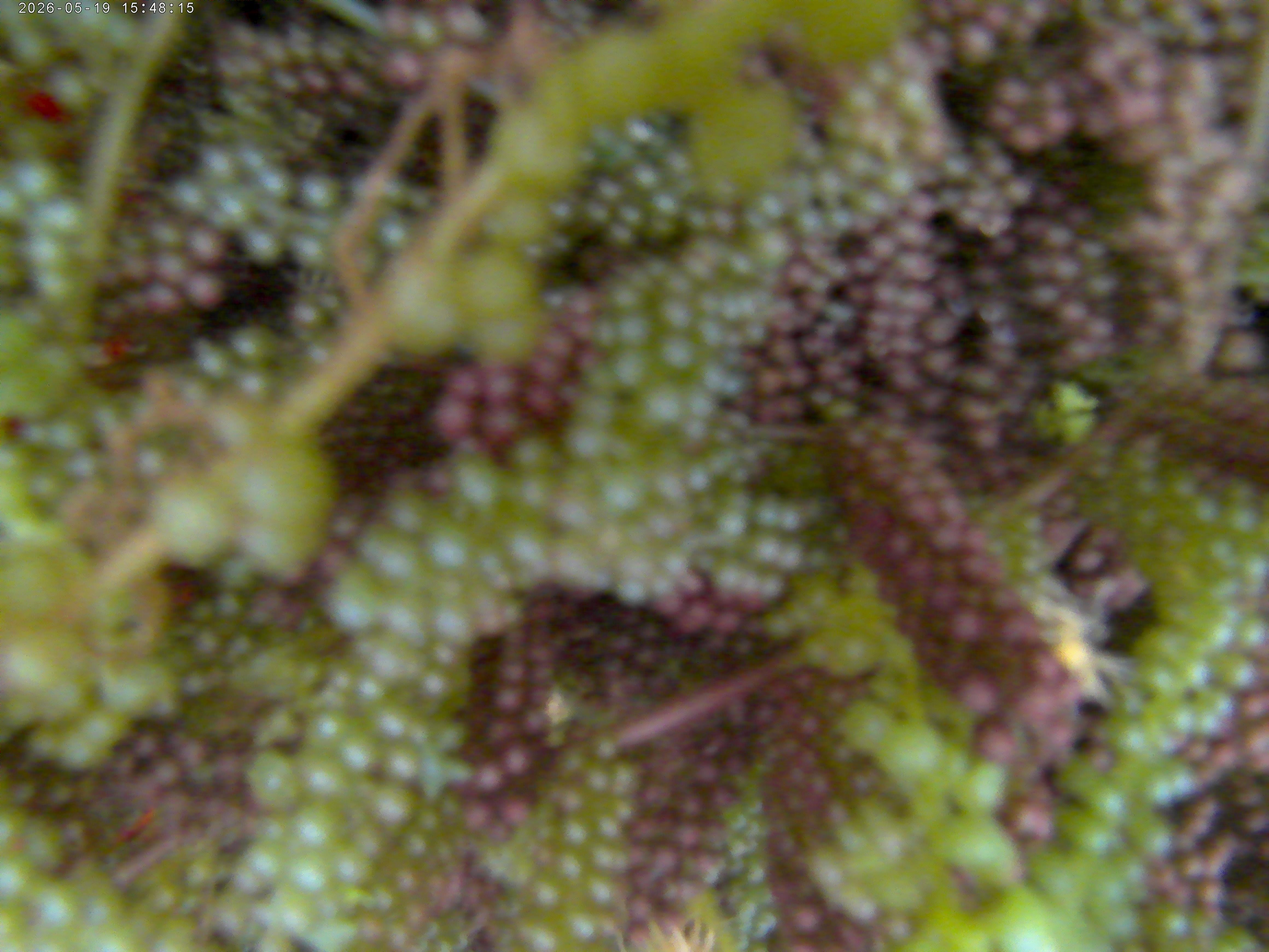Darkening: (386, 49, 426, 87), (1020, 684, 1060, 720), (959, 673, 996, 711), (961, 368, 1004, 400), (977, 724, 1013, 761), (953, 391, 994, 423), (1027, 656, 1065, 690), (895, 251, 936, 282), (920, 344, 957, 376), (1003, 615, 1039, 647), (189, 271, 222, 305), (187, 230, 220, 264), (156, 251, 189, 284), (1009, 119, 1041, 151), (889, 363, 923, 393), (1245, 724, 1269, 765), (924, 314, 955, 345), (677, 602, 710, 631), (894, 223, 930, 249), (503, 746, 533, 777), (886, 532, 916, 562), (1087, 272, 1118, 300), (900, 286, 932, 313), (791, 908, 824, 934), (476, 765, 505, 794), (1005, 178, 1034, 207), (493, 684, 523, 712), (904, 559, 934, 587), (149, 285, 179, 313), (916, 392, 949, 417), (302, 69, 332, 96), (1065, 337, 1096, 363), (1211, 744, 1243, 769), (271, 69, 301, 95), (942, 154, 970, 181), (1053, 256, 1081, 283), (1044, 111, 1073, 137), (1039, 81, 1068, 107), (999, 81, 1028, 107), (933, 527, 962, 553), (1021, 217, 1052, 241), (1032, 283, 1060, 309), (921, 31, 950, 56), (934, 275, 964, 299), (817, 359, 848, 382), (711, 208, 738, 234), (1181, 856, 1208, 882), (769, 342, 796, 368), (909, 195, 936, 221), (1060, 300, 1088, 325), (988, 348, 1017, 372), (872, 459, 898, 485), (982, 6, 1008, 32), (453, 371, 478, 398), (1047, 225, 1074, 250), (156, 762, 183, 787), (987, 154, 1014, 179), (179, 737, 206, 762), (215, 754, 242, 779), (190, 748, 217, 773), (340, 75, 367, 100), (893, 332, 921, 356), (496, 802, 525, 825), (525, 390, 551, 415), (1243, 811, 1269, 836), (873, 282, 899, 307), (653, 845, 677, 872), (924, 0, 951, 24), (1072, 205, 1095, 233), (493, 413, 519, 437), (972, 423, 996, 449), (787, 262, 811, 288), (1089, 316, 1115, 340), (1197, 883, 1223, 907), (445, 409, 468, 436), (930, 587, 957, 610), (1079, 239, 1106, 262), (522, 711, 546, 736), (744, 323, 769, 347), (957, 207, 982, 231), (134, 735, 159, 759), (869, 306, 894, 330), (1043, 190, 1067, 215), (945, 494, 968, 520), (990, 106, 1015, 129), (836, 376, 861, 399), (487, 375, 513, 397), (489, 722, 511, 748), (503, 662, 529, 684), (536, 358, 563, 379), (510, 744, 530, 772), (953, 0, 981, 20), (718, 611, 742, 634), (958, 614, 980, 639), (711, 787, 733, 811), (912, 496, 934, 520), (679, 827, 701, 850), (788, 366, 811, 388), (854, 256, 877, 278), (249, 605, 272, 627), (102, 301, 125, 323), (846, 428, 868, 450), (1188, 741, 1210, 763), (758, 369, 781, 390), (977, 265, 1000, 286), (549, 331, 571, 352), (996, 236, 1018, 257), (1159, 869, 1180, 891), (963, 550, 983, 573), (1195, 799, 1218, 819), (1057, 493, 1078, 514), (480, 768, 500, 790), (728, 411, 750, 431), (535, 641, 554, 664), (679, 798, 700, 818), (811, 387, 832, 407), (701, 762, 720, 782), (734, 638, 754, 657), (794, 673, 814, 692), (779, 835, 798, 855), (1188, 818, 1209, 836), (850, 285, 869, 304), (801, 714, 819, 734), (804, 295, 824, 312), (1172, 890, 1194, 905), (1178, 830, 1195, 849), (801, 749, 818, 767), (782, 738, 800, 755), (813, 774, 826, 795)
Harvestable: (881, 721, 940, 782), (322, 568, 374, 630), (944, 814, 1002, 869), (358, 532, 417, 586), (248, 753, 296, 813), (456, 463, 508, 514), (296, 803, 350, 852), (601, 467, 651, 518), (427, 519, 476, 570), (1037, 852, 1085, 902), (961, 761, 1002, 819), (499, 519, 550, 565), (24, 204, 84, 243), (3, 159, 56, 202), (37, 882, 83, 931), (300, 751, 345, 799), (9, 27, 54, 71), (390, 492, 436, 535), (268, 894, 320, 931), (248, 841, 291, 885), (567, 424, 612, 466), (0, 850, 35, 900), (618, 348, 657, 391), (54, 71, 92, 114), (295, 856, 338, 893), (657, 332, 696, 372), (1075, 819, 1116, 857), (1087, 780, 1128, 818), (376, 788, 413, 830), (641, 384, 684, 420), (1143, 659, 1181, 699), (46, 414, 84, 452), (25, 237, 67, 271), (1104, 906, 1142, 943), (374, 701, 411, 739), (582, 395, 625, 427), (1138, 820, 1174, 858), (834, 818, 870, 856), (311, 707, 348, 743), (231, 327, 267, 363), (384, 744, 419, 781), (339, 736, 377, 770), (1221, 654, 1256, 690), (301, 175, 337, 210), (656, 296, 692, 331), (564, 908, 600, 942), (36, 269, 75, 300), (434, 718, 469, 752), (1061, 410, 1094, 446), (617, 314, 651, 348), (584, 871, 617, 906), (219, 555, 252, 590), (1165, 700, 1198, 735), (1225, 504, 1259, 537), (518, 442, 555, 472), (1055, 381, 1087, 415), (555, 848, 587, 881), (197, 347, 229, 380), (218, 195, 251, 227), (1189, 494, 1221, 526), (533, 877, 565, 909), (652, 470, 684, 502), (329, 915, 361, 947), (1117, 852, 1148, 885), (176, 181, 207, 214), (1180, 657, 1210, 691), (1160, 907, 1191, 939), (793, 206, 825, 237), (1204, 533, 1236, 564), (411, 17, 443, 48), (1146, 776, 1177, 808), (1238, 616, 1268, 649), (249, 231, 280, 262), (562, 815, 592, 847), (885, 166, 915, 197), (0, 190, 26, 225), (1169, 472, 1199, 502), (296, 236, 326, 266), (446, 757, 475, 788), (356, 674, 385, 704), (380, 220, 409, 250), (1118, 727, 1147, 757), (216, 591, 245, 620), (1241, 552, 1269, 582), (69, 452, 99, 480), (421, 670, 451, 698), (765, 613, 794, 641), (328, 664, 357, 692), (1207, 687, 1234, 717), (697, 319, 725, 347), (650, 192, 679, 219), (1206, 622, 1235, 649), (337, 855, 370, 878), (404, 831, 431, 859), (590, 842, 617, 870), (416, 807, 443, 834), (632, 165, 659, 192), (719, 510, 746, 537), (594, 813, 621, 840), (618, 204, 646, 230), (194, 630, 222, 656), (759, 572, 785, 600), (778, 543, 804, 571), (728, 254, 756, 280), (1216, 573, 1242, 601), (860, 191, 888, 217), (755, 502, 781, 529), (23, 422, 50, 448), (339, 883, 366, 909), (758, 194, 785, 220), (684, 207, 711, 233), (209, 153, 235, 180), (239, 372, 267, 397), (260, 175, 289, 199), (619, 579, 645, 605), (562, 787, 588, 813), (593, 735, 619, 761), (548, 200, 575, 225), (1019, 511, 1045, 536), (613, 140, 638, 166), (586, 768, 611, 794), (1231, 480, 1257, 505), (650, 216, 677, 240), (598, 179, 623, 204), (755, 537, 780, 562), (1196, 713, 1221, 738), (608, 224, 634, 248), (1134, 475, 1160, 499), (184, 671, 210, 695), (888, 916, 912, 941), (179, 890, 204, 914), (49, 783, 75, 806), (191, 600, 215, 624), (688, 467, 711, 492), (829, 208, 854, 231), (645, 258, 670, 281), (430, 644, 455, 667), (231, 633, 255, 656), (684, 418, 707, 442), (440, 794, 463, 818), (408, 189, 432, 212), (308, 214, 333, 236), (14, 781, 37, 804), (588, 203, 612, 225), (615, 799, 637, 823), (549, 233, 573, 255), (1194, 917, 1216, 939), (1155, 733, 1177, 755), (727, 810, 749, 832), (780, 509, 801, 532), (1091, 461, 1113, 482), (546, 728, 567, 749), (831, 523, 851, 545), (695, 552, 717, 572), (728, 837, 749, 857), (321, 292, 340, 311), (730, 467, 749, 484)
